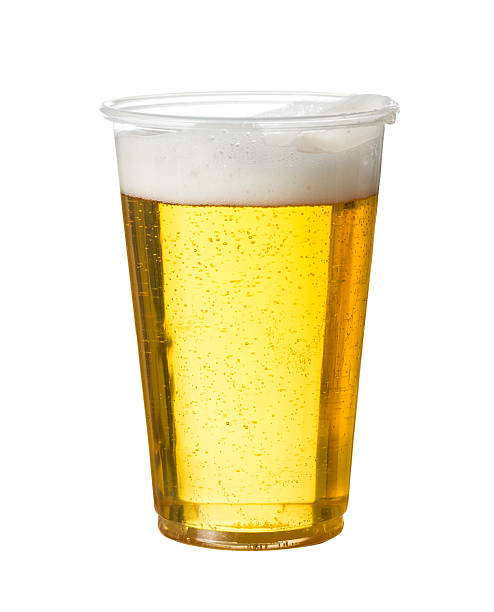plastic_glass: (99, 78, 410, 567)
